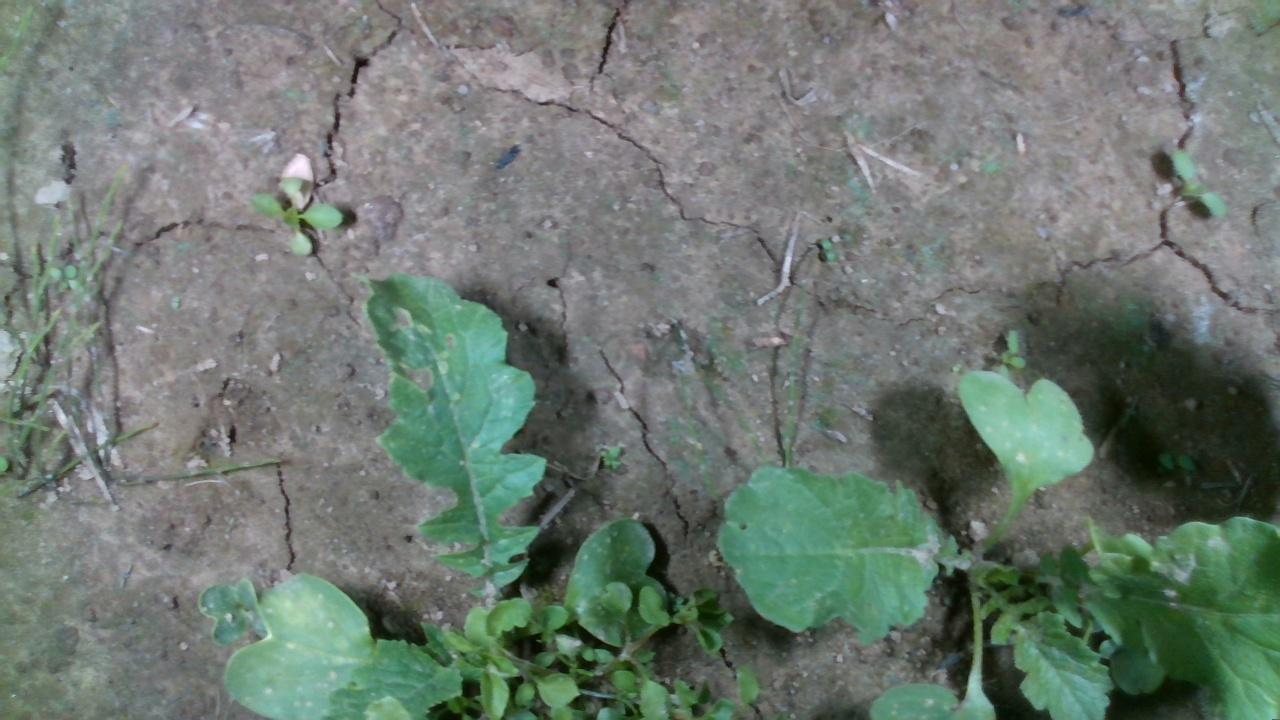weed: (1166, 146, 1227, 218)
